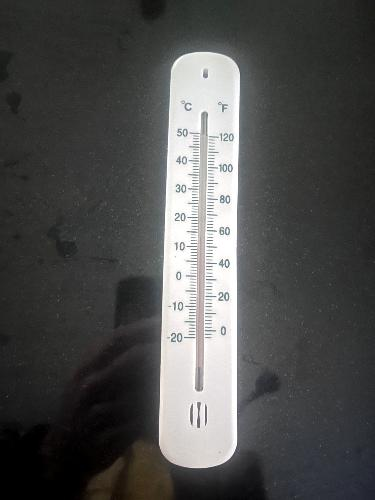thermo: (155, 50, 243, 462)
